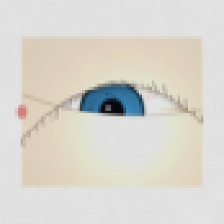pterygium_lesion: (150, 91, 202, 133)
